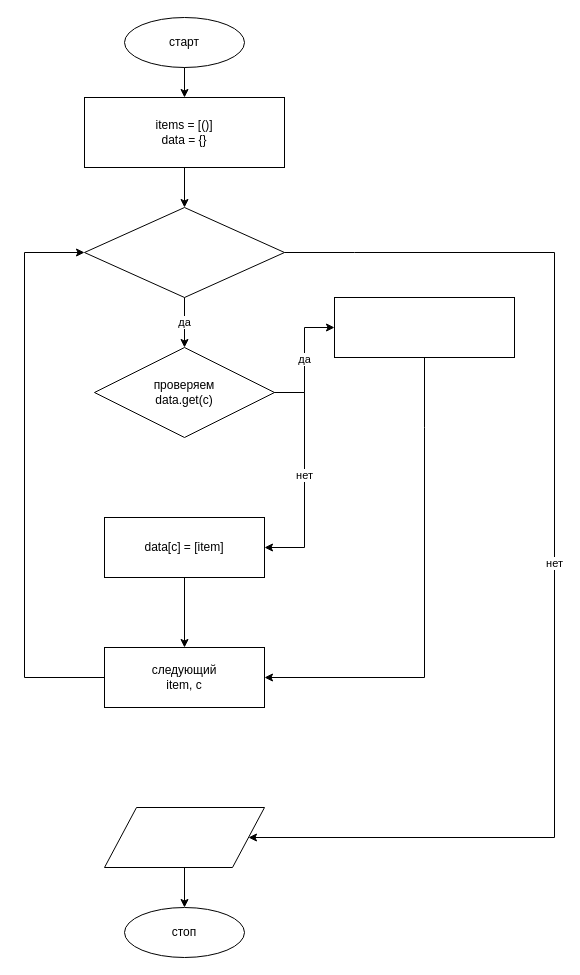
This 580x975 diagram has some shape labels left out. The centre of each missing label's shape, as x and y in pixels:
data[c].append(item): pixel 424 327
выводим data: pixel 184 837
есть ли следующий item, c в items?: pixel 184 252
